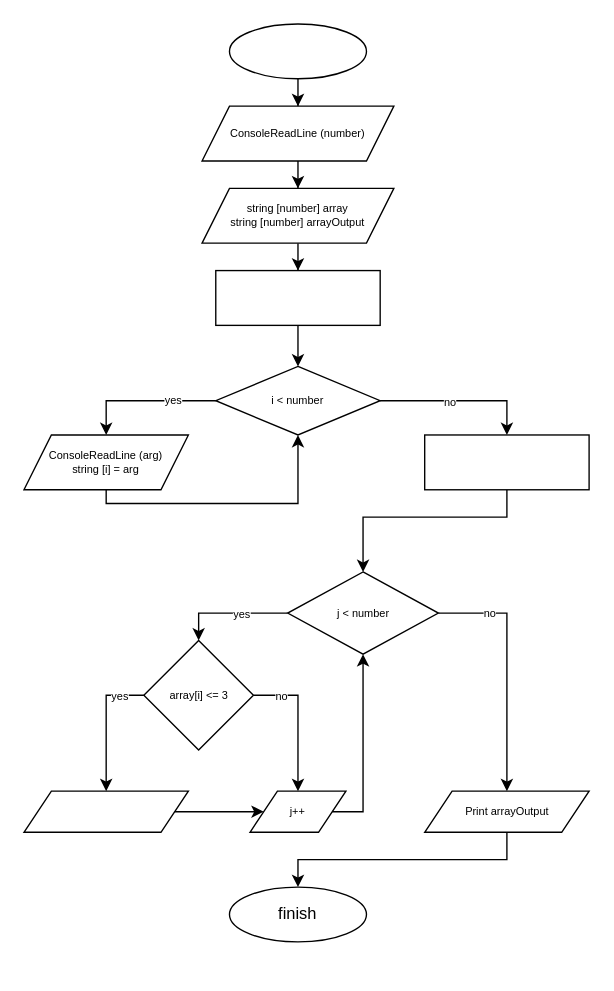
Image size: 614x991. Some labels were removed from this diagram. The centre of each missing label's shape, as x and y in pixels:
arrayOutput [j] = array [i]: the point at 105,811
start: the point at 297,51
string [number] array int i = 0 arg: the point at 297,297
string [number] array string [number] arrayOutput int j =0: the point at 506,462
